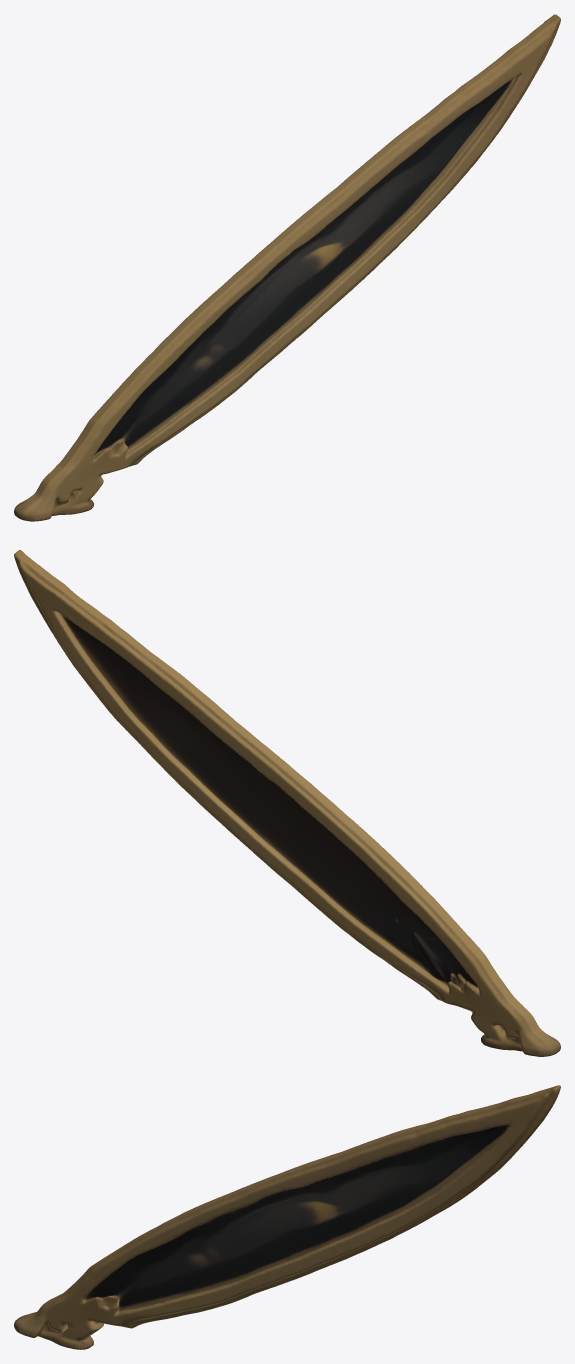
The model's file is ear_single_ref-7.glb.
3 views of the same model, one above another, from view 1: azimuth 30°, elevation 25°; view 2: azimuth 150°, elevation 25°; view 3: azimuth 330°, elevation 25° (orthographic).
Bounding box in the file's own units: 1 × 0.6631 × 0.055.
Materials: 1 (1 with a texture image).
